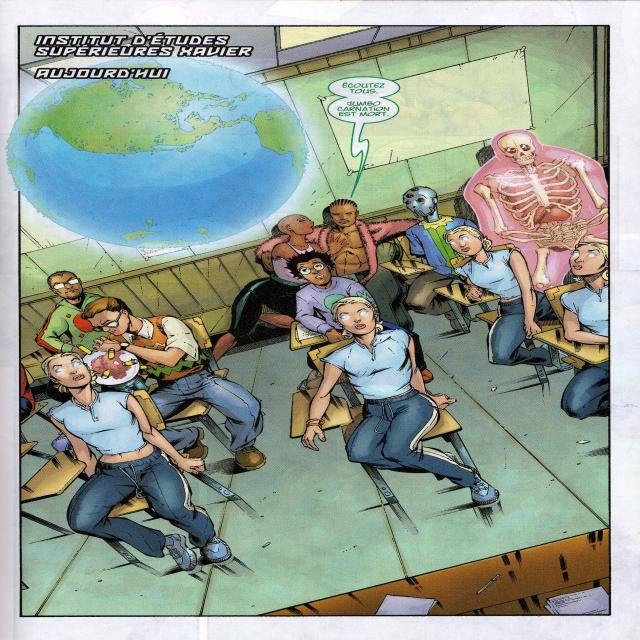comic_panel: (3, 24, 610, 617)
